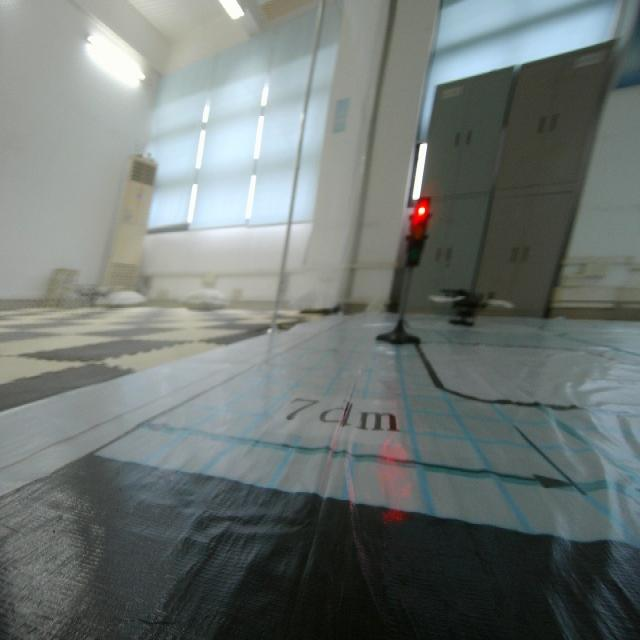red: (404, 194, 430, 272)
